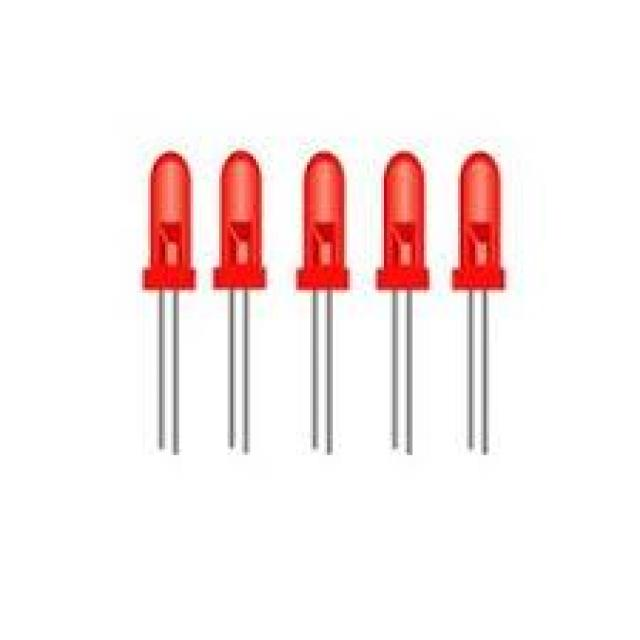Led: (452, 152, 505, 454), (376, 152, 429, 454), (296, 152, 349, 454), (142, 152, 195, 454), (214, 151, 266, 453)
